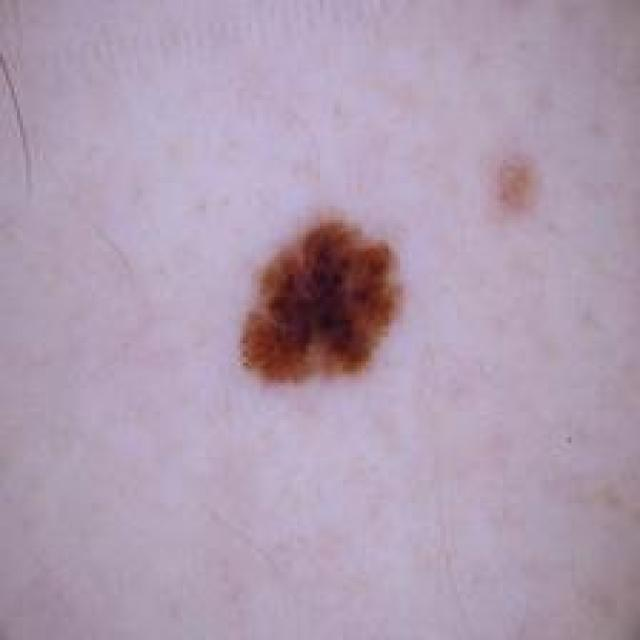Cancer: (234, 211, 403, 386)
